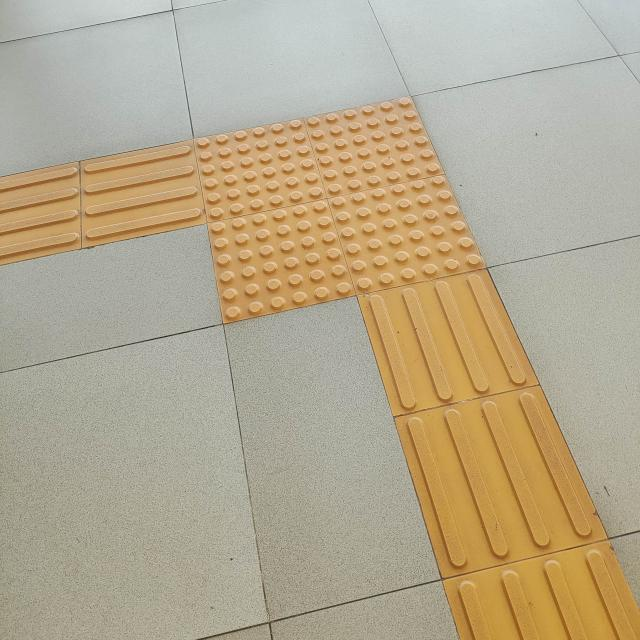kiri: (0, 81, 549, 382)
